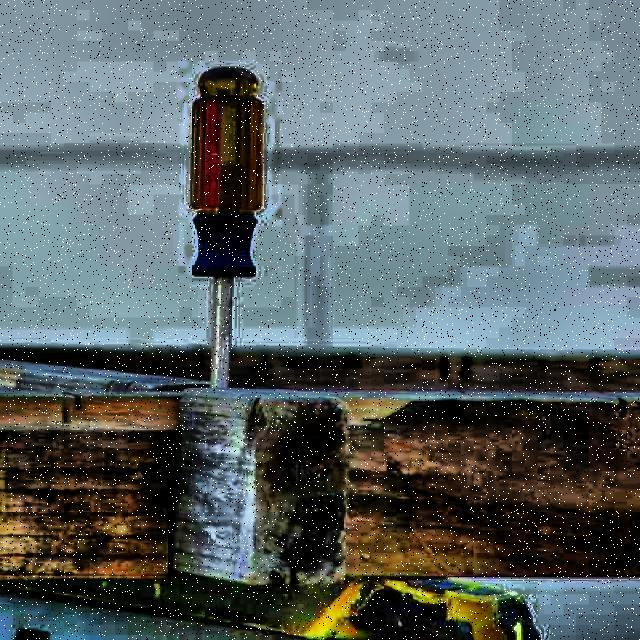screwdriver: (191, 64, 263, 390)
